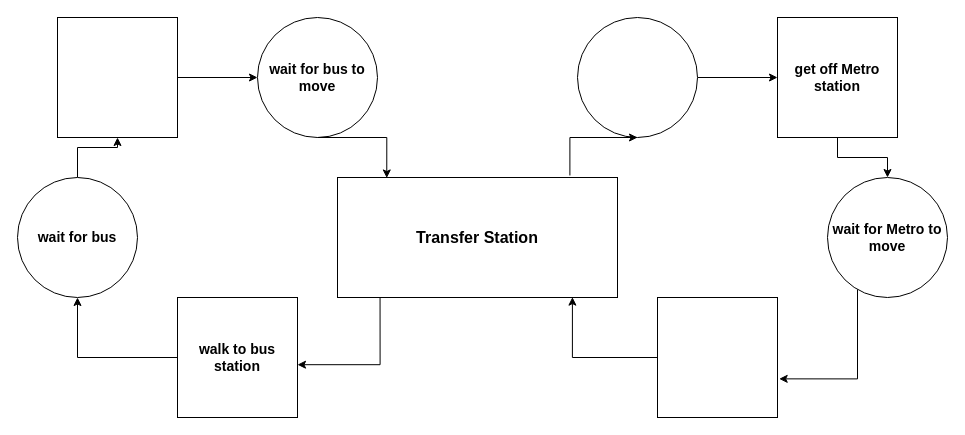
This 965x435 diagram has some shape labels left out. The shapes that lost their labels are listed below. From the top down, each one's centre as x and y in pixels, then its label:
[117,77]: board the bus
[637,77]: wait for Metro
[717,357]: board the Metro
